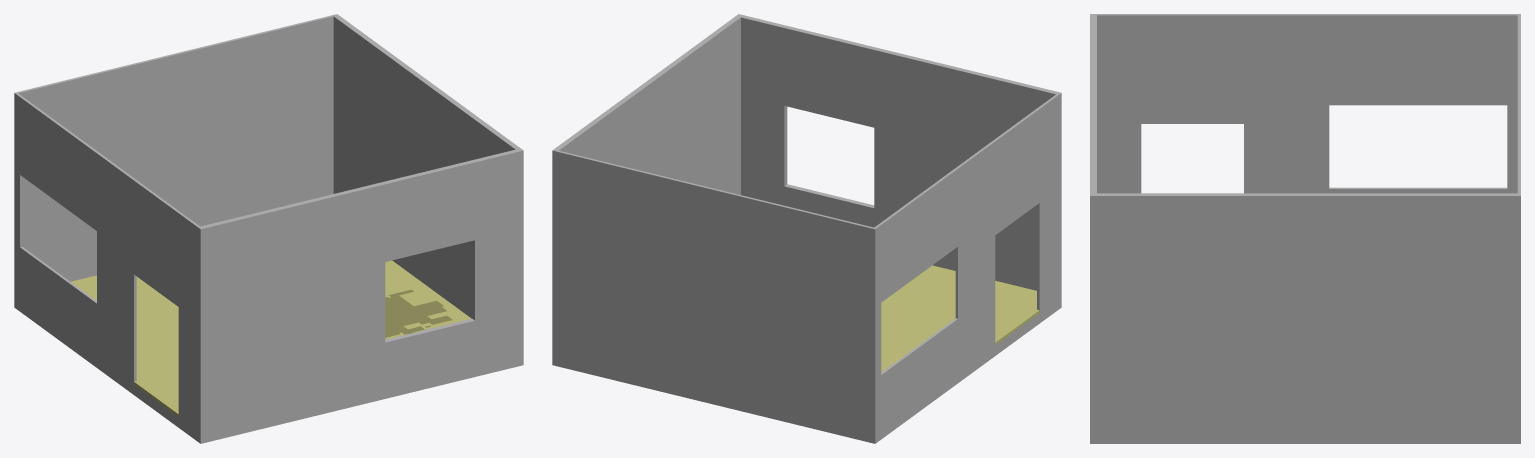
The model's file is 4x2 first (1)-7.obj.
3 views of the same model, side by side, from view 1: azimuth 30°, elevation 25°; view 2: azimuth 150°, elevation 25°; view 3: azimuth 270°, elevation 25° (orthographic). The views are drawn at different scales.
Parts seen in each view (by area): view 1: 4x2 first (1)-7; view 2: 4x2 first (1)-7; view 3: 4x2 first (1)-7.
Boxes of the visible parts, <box> form: 4x2 first (1)-7: <box>14,14,523,443</box>; 4x2 first (1)-7: <box>552,14,1061,443</box>; 4x2 first (1)-7: <box>1090,14,1520,443</box>.
Bounding box in the file's own units: 126 × 80 × 126.
Materials: 1 (1 with a texture image).
